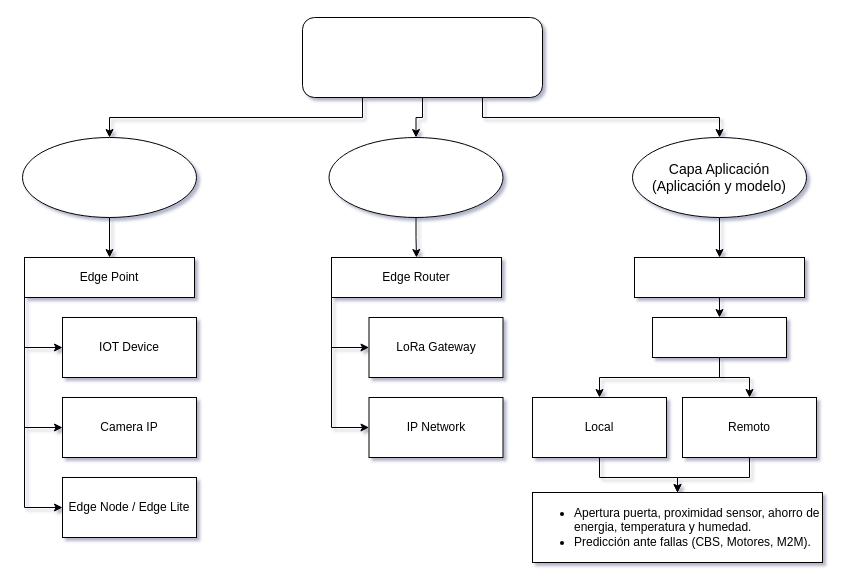
Some shapes in this 846 by 586 pixel diagram are drawn without their labels. Here are the shapes that lost their labels. From the top down, the box of each, then its label:
(302, 16, 542, 98): Sistemas De Control Inteligentes
(22, 136, 196, 218): Capa Fisica (Objeto y extracción)
(328, 136, 503, 218): Capa De Red (Servicios)
(634, 256, 804, 298): Server (Securuty Connection)
(652, 316, 786, 358): HTTPS
